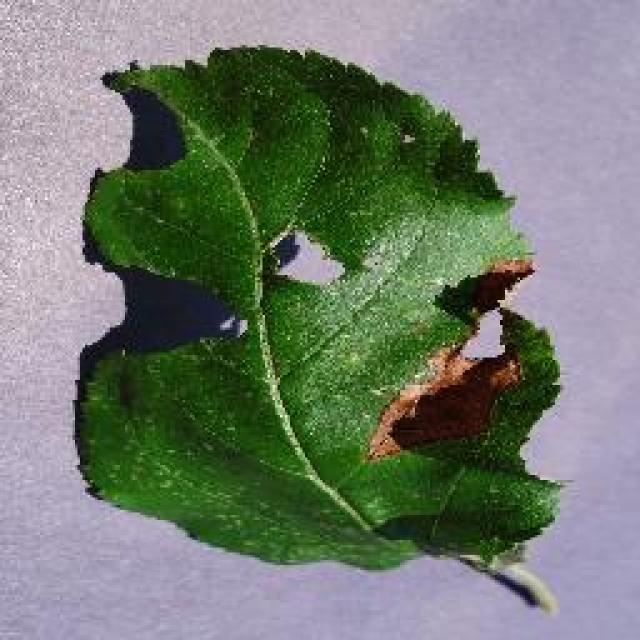Apple___Black_rot: (187, 201, 589, 542)
